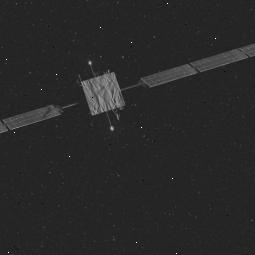smart_1: (11, 65, 178, 143)
